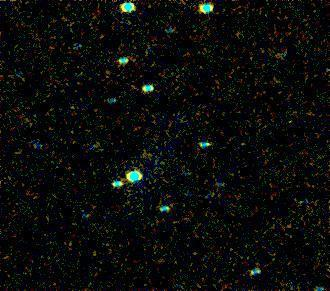star: (134, 140, 164, 170)
